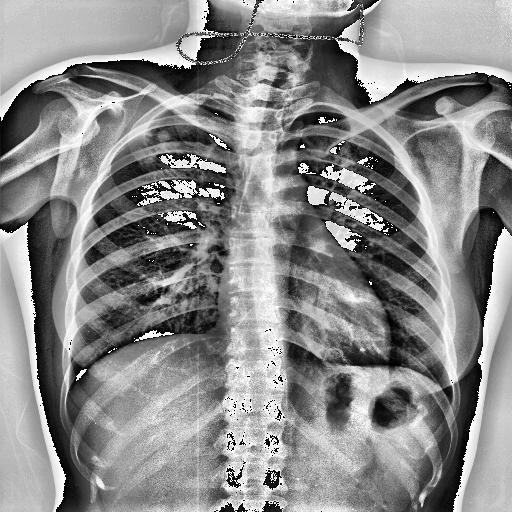11- Pleural thickening: (114, 131, 150, 156)
13- Pulmonary fibrosis: (142, 127, 192, 164), (142, 126, 186, 158)
8- Nodule-Mass: (156, 130, 172, 142)
